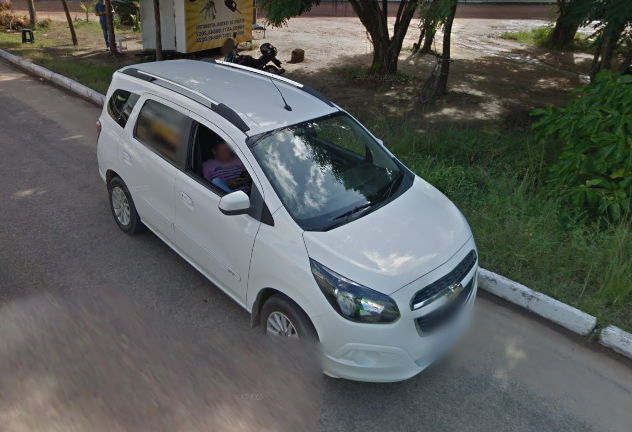car: (91, 55, 484, 387)
